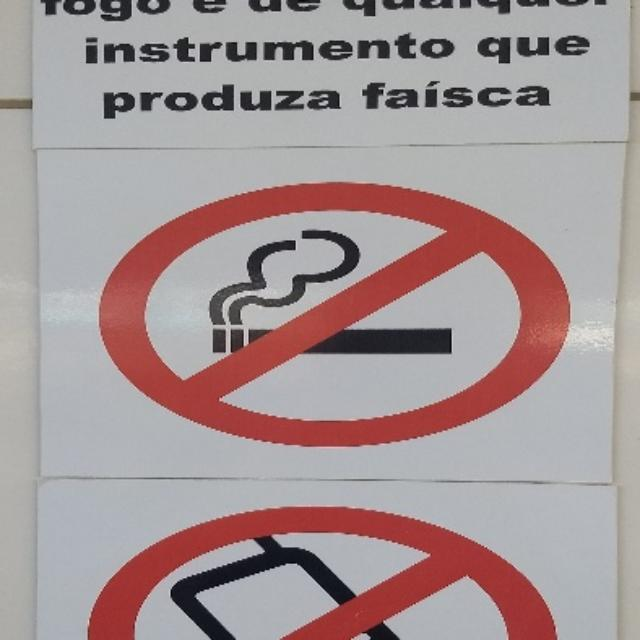cam hut thuoc: (101, 182, 569, 445)
